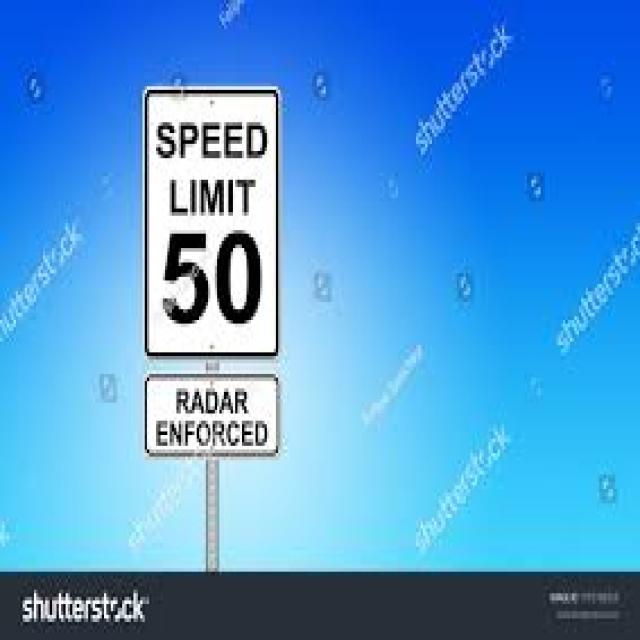speedLimit50: (138, 72, 283, 370)
